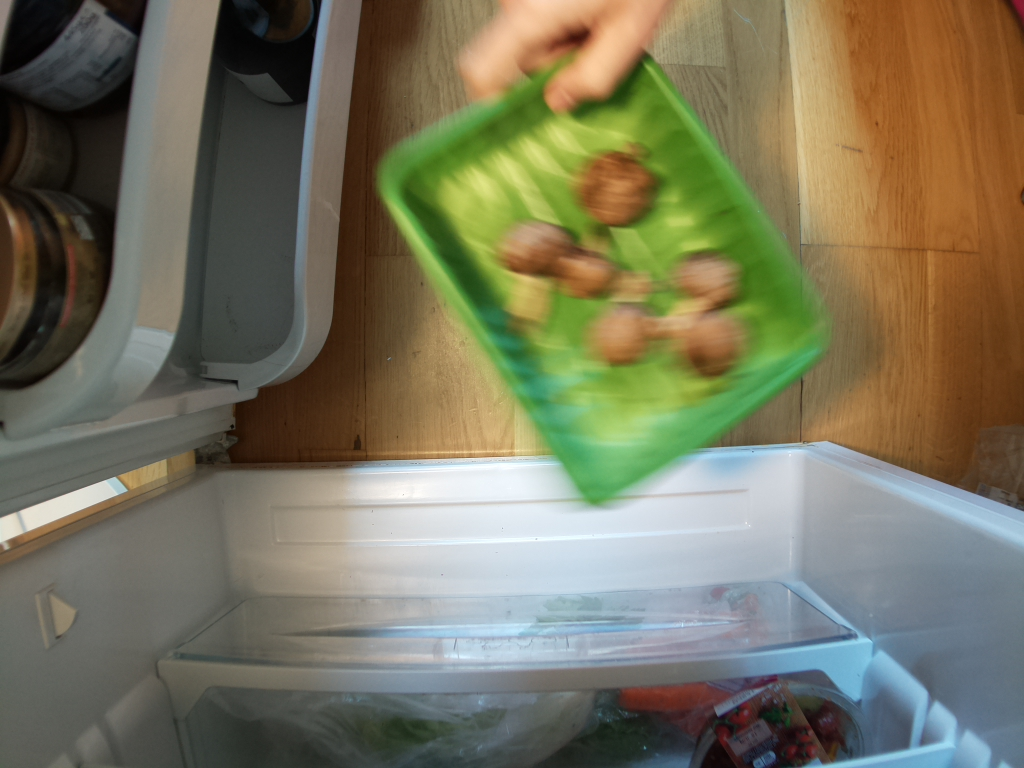mushrooms-bad: (371, 51, 829, 483)
